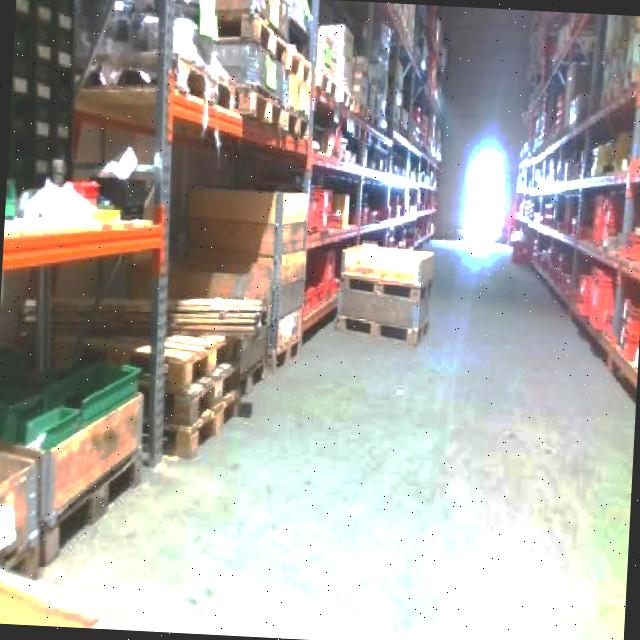ground: (24, 215, 640, 640)
pallet: (488, 10, 640, 640), (14, 284, 273, 463), (0, 349, 150, 579), (178, 182, 313, 370), (20, 284, 269, 345), (334, 239, 438, 346), (0, 436, 49, 624)
